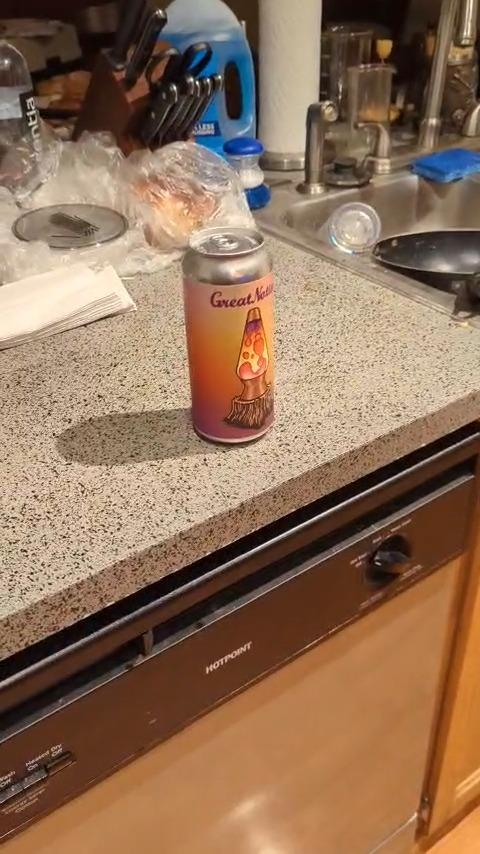metal: (183, 226, 274, 443)
